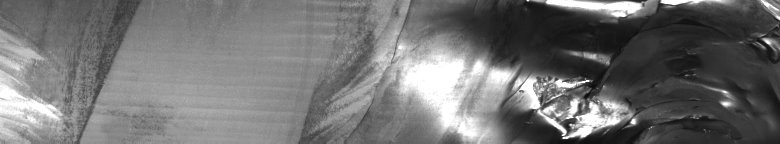ke: (476, 4, 776, 136)
